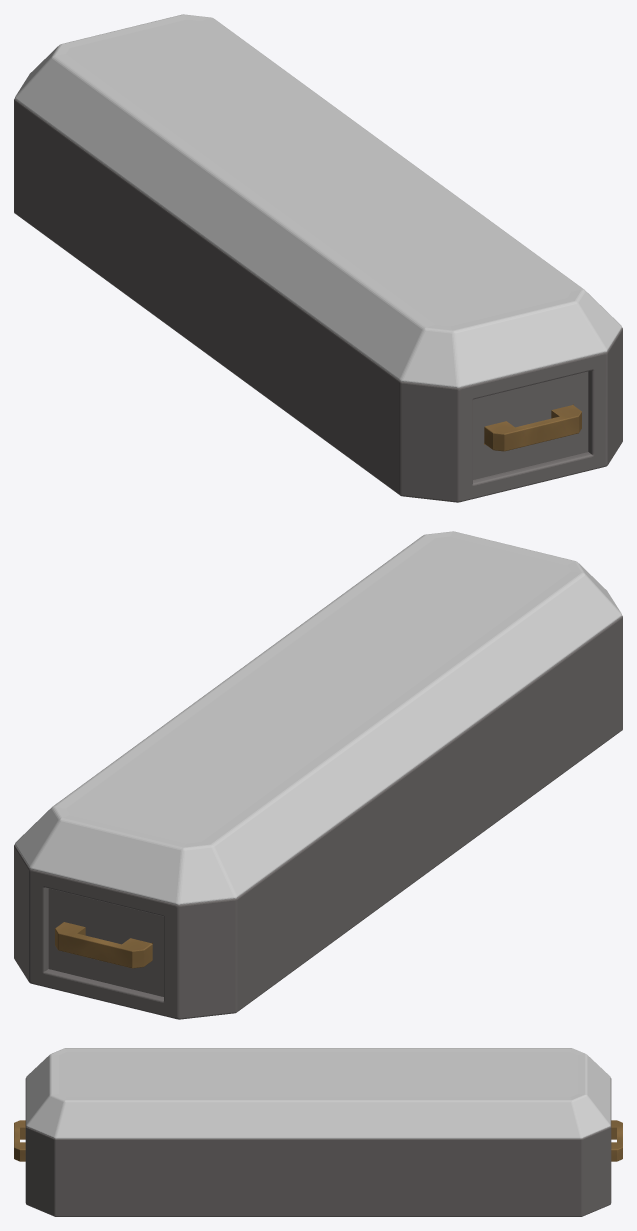
File: SSCContainer1.fbx
3 views of the same model, one above another, from view 1: azimuth 30°, elevation 25°; view 2: azimuth 150°, elevation 25°; view 3: azimuth 270°, elevation 25° (orthographic). The views are drawn at different scales.
Visible parts, largest first — view 1: SSCContainter1_Lid, SSCContainer1_Base; view 2: SSCContainter1_Lid, SSCContainer1_Base; view 3: SSCContainter1_Lid, SSCContainer1_Base.
Part boxes in pixels (x1,y1,x2,y2): SSCContainter1_Lid: (14, 14, 622, 387); SSCContainer1_Base: (14, 99, 622, 502); SSCContainter1_Lid: (14, 531, 622, 904); SSCContainer1_Base: (14, 616, 622, 1019); SSCContainter1_Lid: (26, 1048, 610, 1138); SSCContainer1_Base: (14, 1078, 622, 1216).
Bounding box in the file's own units: 60 × 39.93 × 208.
